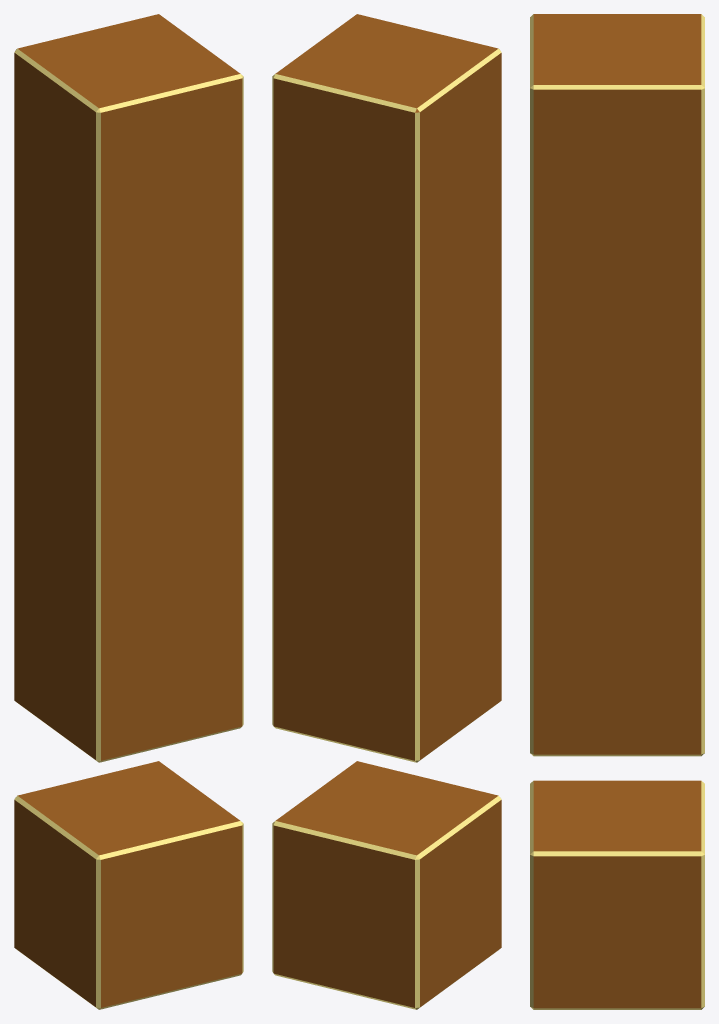
The model's file is exclam.glb.
The picture shows the model from 3 angles, left to right: view 1: azimuth 30°, elevation 25°; view 2: azimuth 150°, elevation 25°; view 3: azimuth 270°, elevation 25°; orthographic projection. The views are drawn at different scales.
Visible parts, largest first — view 1: Cube.001, Cube.003; view 2: Cube.001, Cube.003; view 3: Cube.001, Cube.003.
Part boxes in pixels (<box>): Cube.001: <box>14,14,243,762</box>; Cube.003: <box>14,761,243,1009</box>; Cube.001: <box>272,14,501,762</box>; Cube.003: <box>272,761,501,1009</box>; Cube.001: <box>530,14,704,756</box>; Cube.003: <box>530,780,704,1009</box>.
Size of the model in its own units: 2 by 11.67 by 2.
